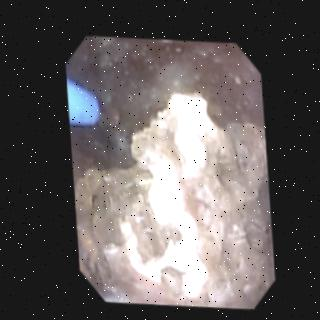fiber: (67, 77, 98, 123)
stone: (74, 88, 267, 300)
